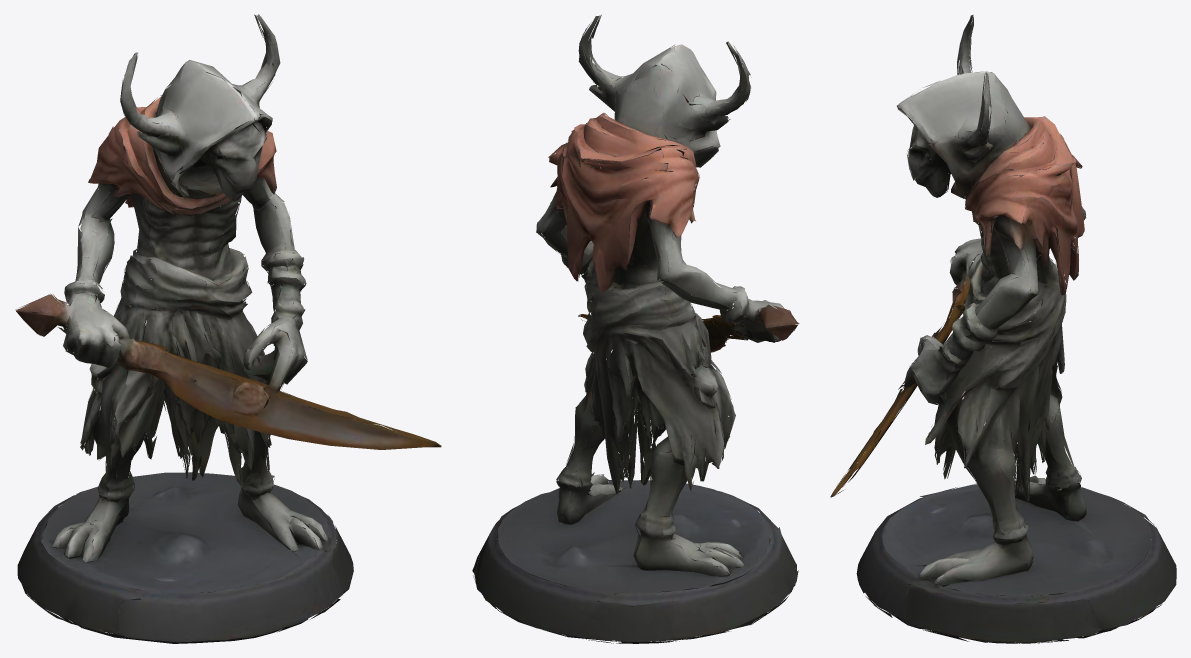
Rendered from goblin.glb.
3 views of the same model, side by side, from view 1: azimuth 30°, elevation 25°; view 2: azimuth 150°, elevation 25°; view 3: azimuth 270°, elevation 25° (orthographic). The views are drawn at different scales.
Parts seen in each view (by area): view 1: world; view 2: world; view 3: world.
Part boxes in pixels (<box>): world: <box>15,14,441,643</box>; world: <box>472,14,799,643</box>; world: <box>830,14,1176,643</box>.
Bounding box in the file's own units: 0.6198 × 1.01 × 0.5964.
Materials: 1 (1 with a texture image).
